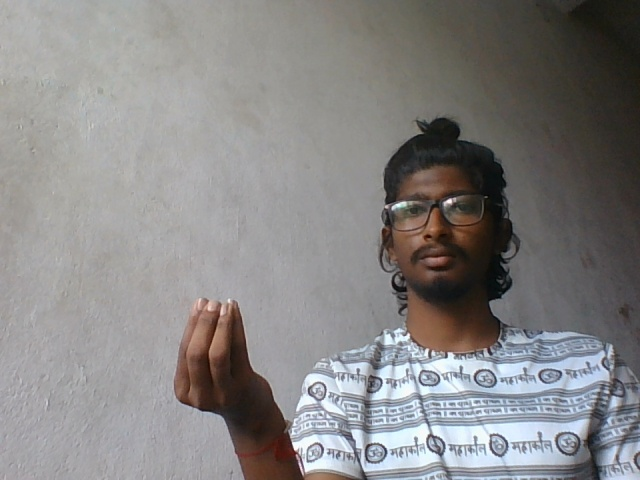Please: (165, 292, 308, 439)
